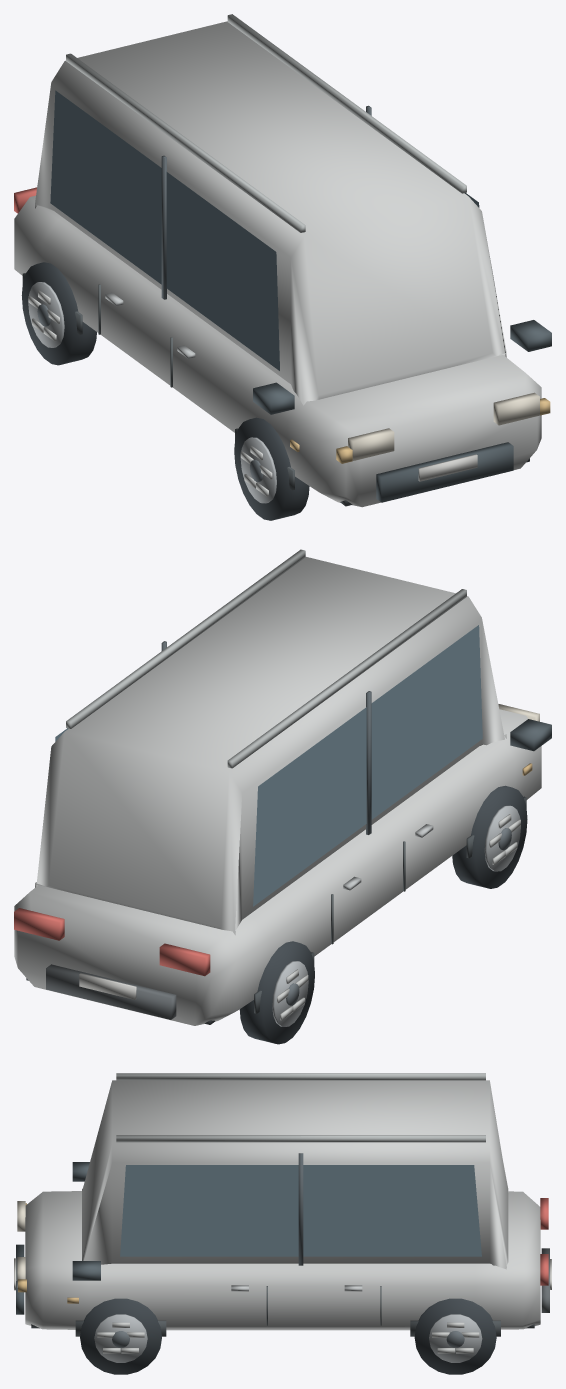
File: van.glb
3 renders of one model, top to bottom at view 1: azimuth 30°, elevation 25°; view 2: azimuth 150°, elevation 25°; view 3: azimuth 270°, elevation 25°, orthographic. The views are drawn at different scales.
Visible parts, largest first — view 1: paint, glass, trim, wheel_1_L, wheel_0_L, headlights, metal; view 2: paint, glass, trim, wheel_0_L, wheel_1_L, taillights, metal; view 3: paint, glass, wheel_1_R, wheel_0_R, trim, taillights, headlights, metal.
Part boxes in pixels (box(x1,y1,x2,y2)): paint: box(14, 14, 541, 507); glass: box(50, 90, 479, 370); trim: box(22, 105, 551, 506); wheel_1_L: box(234, 417, 309, 520); wheel_0_L: box(21, 262, 96, 365); headlights: box(348, 392, 539, 460); metal: box(105, 292, 477, 481); paint: box(14, 549, 541, 1025); glass: box(55, 625, 482, 906); trim: box(26, 641, 551, 1024); wheel_0_L: box(239, 941, 314, 1044); wheel_1_L: box(452, 785, 527, 888); taillights: box(14, 908, 210, 976); metal: box(79, 824, 433, 999); paint: box(25, 1073, 540, 1330); glass: box(120, 1165, 481, 1256); wheel_1_R: box(80, 1298, 161, 1374); wheel_0_R: box(414, 1298, 496, 1374); trim: box(16, 1153, 549, 1336); taillights: box(540, 1198, 548, 1285); headlights: box(17, 1201, 25, 1287); metal: box(14, 1258, 551, 1291).
Bounding box in the file's own units: 2.62 × 2.53 × 5.51.
